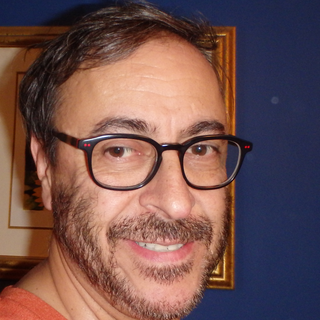eye: (177, 139, 221, 162), (98, 142, 142, 164)
